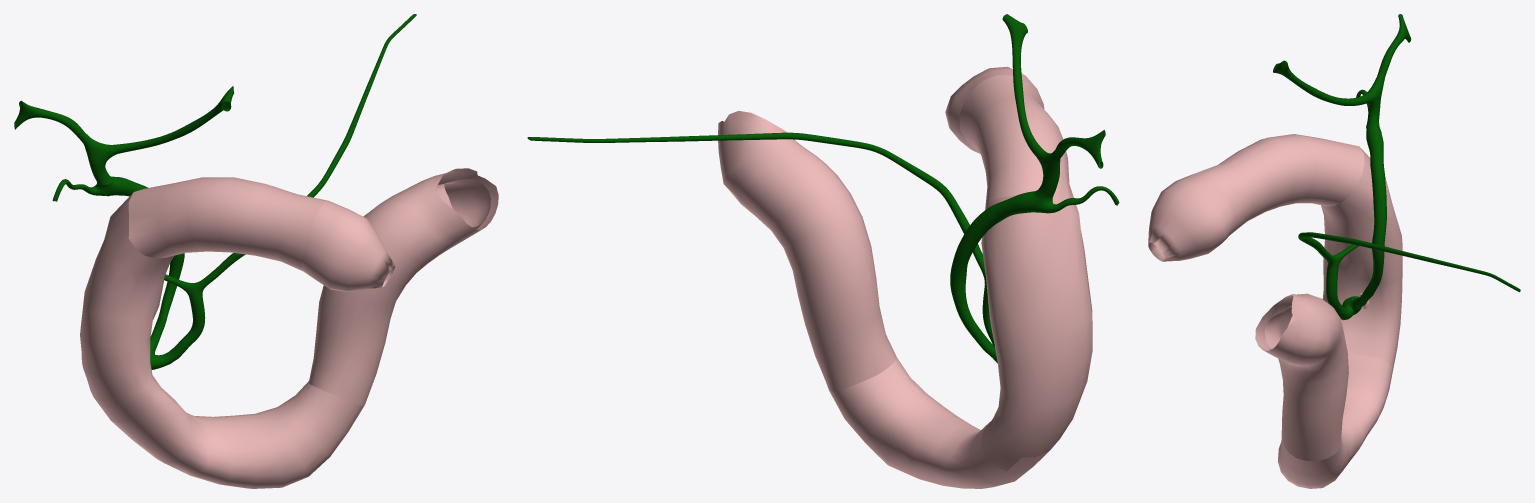
File: VH_M_Pancreas_Landmarks.fbx
3 views of the same model, side by side, from view 1: azimuth 30°, elevation 25°; view 2: azimuth 150°, elevation 25°; view 3: azimuth 270°, elevation 25° (orthographic). The views are drawn at different scales.
Parts seen in each view (by area): view 1: VH_M_pancreas_landmark_duodenum, VH_M_pancreas_landmark_biliary_tree; view 2: VH_M_pancreas_landmark_duodenum, VH_M_pancreas_landmark_biliary_tree; view 3: VH_M_pancreas_landmark_duodenum, VH_M_pancreas_landmark_biliary_tree.
Boxes of the visible parts, left/top/right/bottom form: VH_M_pancreas_landmark_duodenum: left=80, top=168, right=498, bottom=488; VH_M_pancreas_landmark_biliary_tree: left=14, top=14, right=416, bottom=369; VH_M_pancreas_landmark_duodenum: left=718, top=66, right=1092, bottom=488; VH_M_pancreas_landmark_biliary_tree: left=527, top=14, right=1119, bottom=363; VH_M_pancreas_landmark_duodenum: left=1148, top=134, right=1402, bottom=488; VH_M_pancreas_landmark_biliary_tree: left=1273, top=14, right=1520, bottom=320.
Size of the model in its own units: 13.34 by 11.65 by 9.95.
